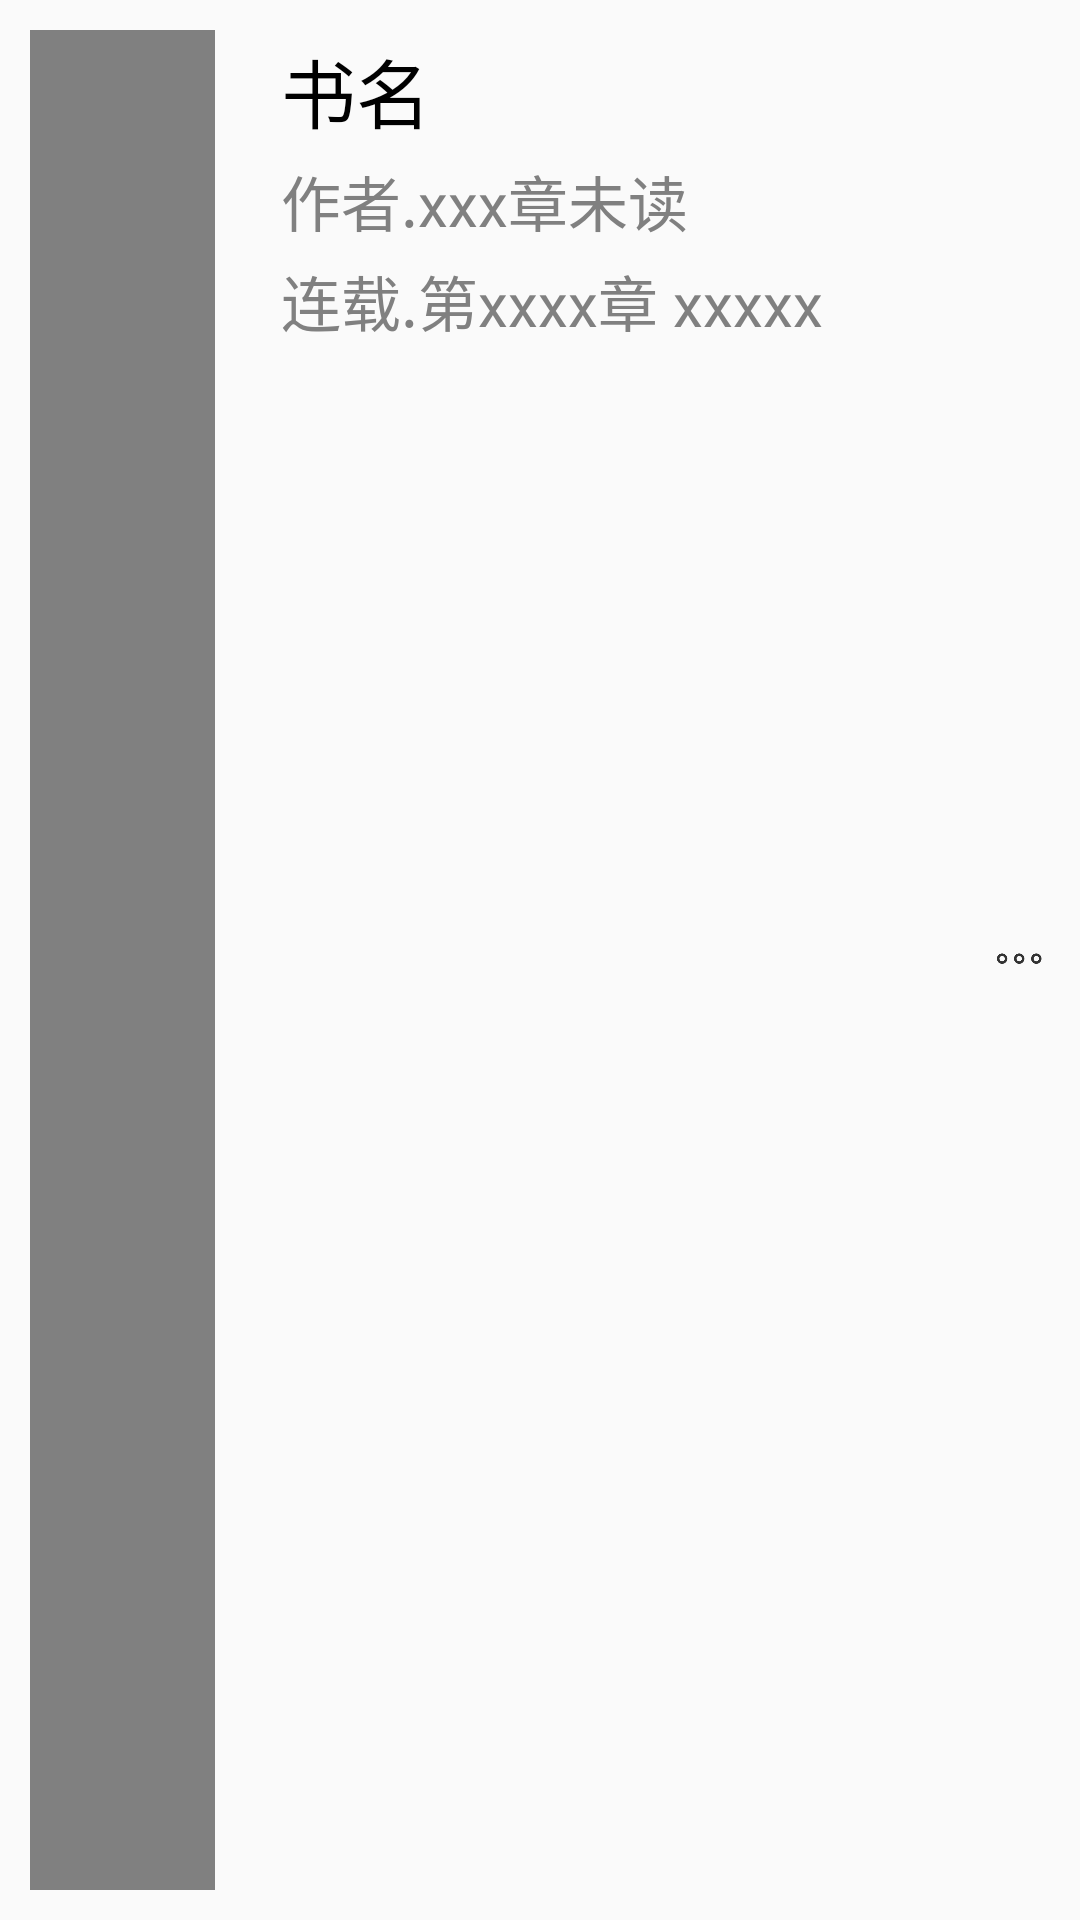

Icons on this 1080px x 1920px Android screen, each with its box as [x1=x1, y1=y1, x2=x2, y2=y2]:
gengduo: [x1=997, y1=953, x2=1042, y2=964]
